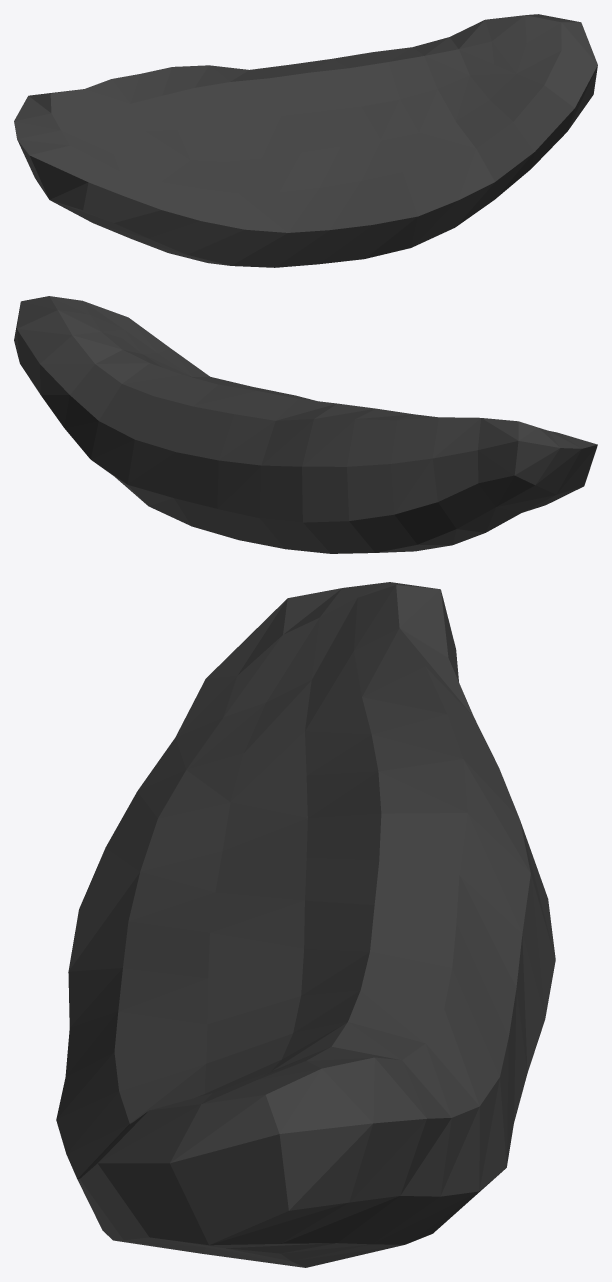
File: FL_Navicular_R.glb
3 renders of one model, top to bottom at view 1: azimuth 30°, elevation 25°; view 2: azimuth 150°, elevation 25°; view 3: azimuth 270°, elevation 25°, orthographic. The views are drawn at different scales.
Parts seen in each view (by area): view 1: FL_Navicular_R; view 2: FL_Navicular_R; view 3: FL_Navicular_R.
Boxes of the visible parts, <box> form: FL_Navicular_R: <box>14,14,597,267</box>; FL_Navicular_R: <box>14,296,597,553</box>; FL_Navicular_R: <box>56,582,555,1267</box>.
Size of the model in its own units: 0.0569 by 0.0183 by 0.0222.
Materials: 1 (1 with a texture image).
